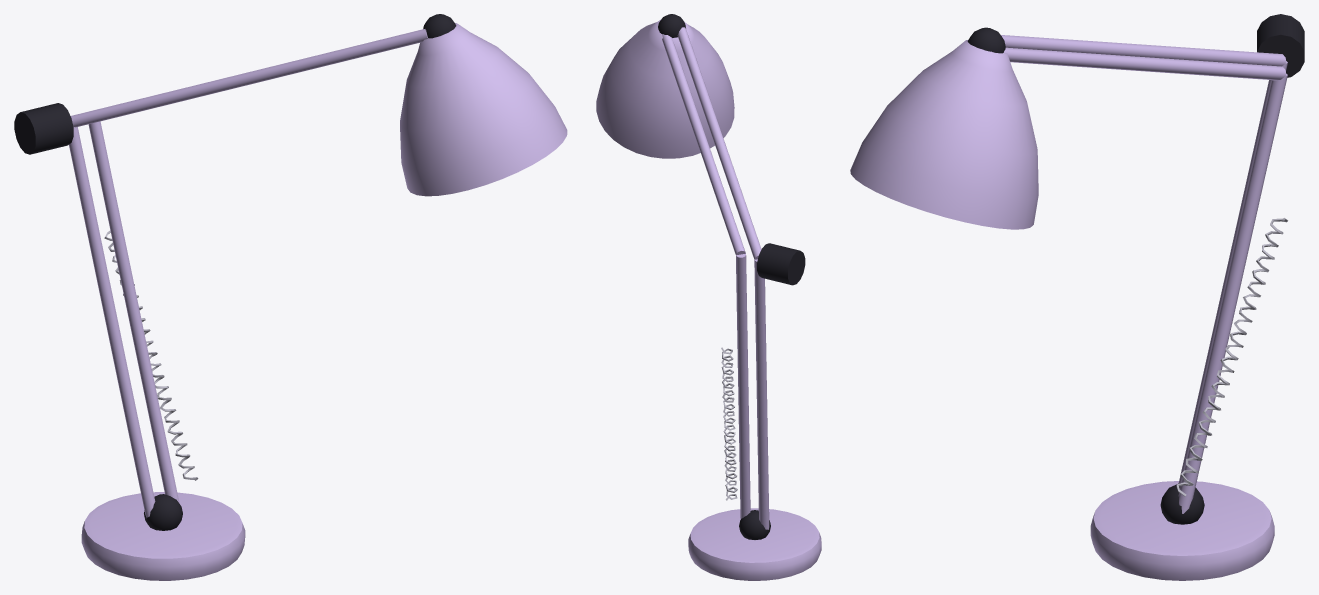
Rendered from desk_lamp.fbx.
3 renders of one model, left to right at view 1: azimuth 30°, elevation 25°; view 2: azimuth 150°, elevation 25°; view 3: azimuth 270°, elevation 25°, orthographic. The views are drawn at different scales.
Parts seen in each view (by area): view 1: desk_lamp; view 2: desk_lamp; view 3: desk_lamp.
Boxes of the visible parts, x1,y1,x2,y2 form: desk_lamp: (14, 14, 567, 580); desk_lamp: (596, 14, 821, 580); desk_lamp: (850, 14, 1304, 580).
Bounding box in the file's own units: 0.4052 × 0.556 × 0.3702.
